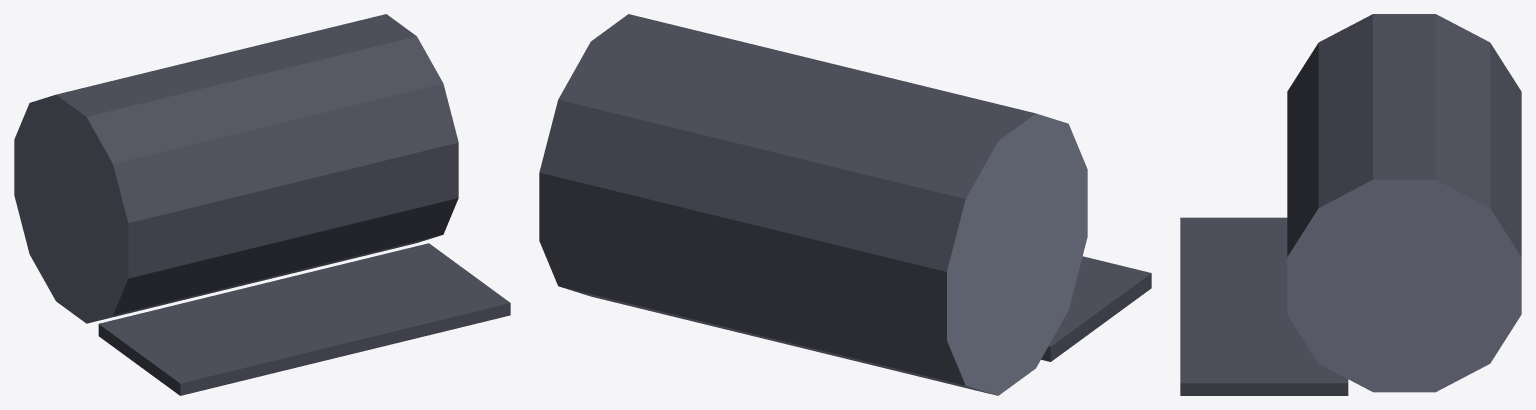
File: carbon_fiber.glb
3 renders of one model, left to right at view 1: azimuth 30°, elevation 25°; view 2: azimuth 150°, elevation 25°; view 3: azimuth 270°, elevation 25°, orthographic. The views are drawn at different scales.
Parts seen in each view (by area): view 1: carbon_fiber; view 2: carbon_fiber; view 3: carbon_fiber.
Part boxes in pixels (x1=…): carbon_fiber: x1=14, y1=14, x2=510, y2=395; carbon_fiber: x1=539, y1=14, x2=1151, y2=395; carbon_fiber: x1=1180, y1=14, x2=1521, y2=395.
Size of the model in its own units: 0.84 by 0.5111 by 0.7311.
